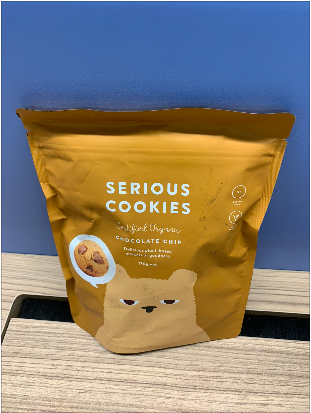Cookies_100-199g: (59, 145, 258, 327)
